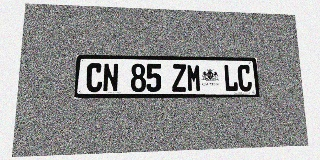5: (146, 64, 161, 92)
8: (131, 63, 146, 92)
C: (86, 63, 103, 92), (237, 65, 252, 91)
L: (223, 64, 238, 91)
M: (186, 64, 201, 92)
N: (102, 63, 119, 92)
Z: (172, 64, 187, 92)
